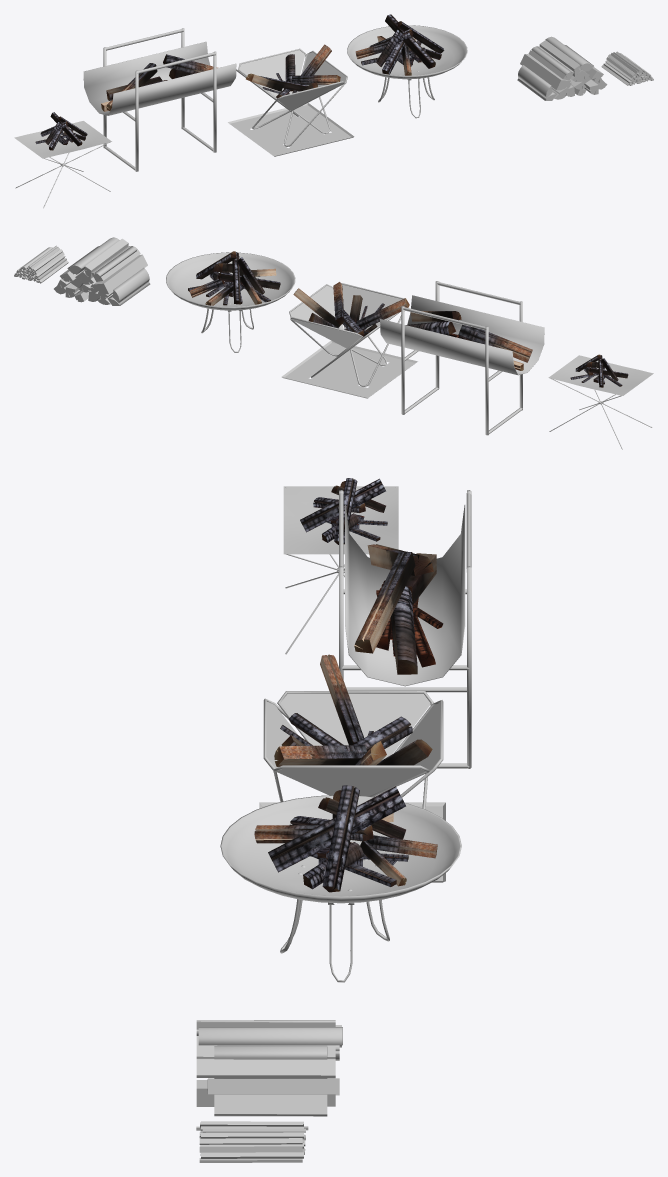
Rendered from Fire Stand.fbx.
The picture shows the model from 3 angles, top to bottom: view 1: azimuth 30°, elevation 25°; view 2: azimuth 150°, elevation 25°; view 3: azimuth 270°, elevation 25°; orthographic projection. The views are drawn at different scales.
Parts seen in each view (by area): view 1: Fire Stand_B, Fire Stand_C, maki, Fire Stand_D, Fire Stand_D_maki, Fire Stand_C_maki, Fire Stand_A, Fire Stand_B_maki, Fire Stand_A_maki; view 2: Fire Stand_B, Fire Stand_C, maki, Fire Stand_D, Fire Stand_D_maki, Fire Stand_C_maki, Fire Stand_A, Fire Stand_B_maki, Fire Stand_A_maki; view 3: maki, Fire Stand_B, Fire Stand_D, Fire Stand_C, Fire Stand_D_maki, Fire Stand_B_maki, Fire Stand_C_maki, Fire Stand_A, Fire Stand_A_maki.
Boxes of the visible parts, <box> form: Fire Stand_B: <box>83,28,236,171</box>; Fire Stand_C: <box>228,48,354,156</box>; maki: <box>517,36,653,100</box>; Fire Stand_D: <box>347,25,467,118</box>; Fire Stand_D_maki: <box>355,14,444,75</box>; Fire Stand_C_maki: <box>246,44,340,98</box>; Fire Stand_A: <box>14,121,111,208</box>; Fire Stand_B_maki: <box>101,54,217,111</box>; Fire Stand_A_maki: <box>35,112,87,150</box>; Fire Stand_B: <box>380,281,544,435</box>; Fire Stand_C: <box>281,283,417,398</box>; maki: <box>14,237,150,305</box>; Fire Stand_D: <box>166,252,295,352</box>; Fire Stand_D_maki: <box>188,251,280,305</box>; Fire Stand_C_maki: <box>293,282,409,336</box>; Fire Stand_A: <box>548,355,653,449</box>; Fire Stand_B_maki: <box>406,311,532,370</box>; Fire Stand_A_maki: <box>570,354,628,387</box>; maki: <box>196,1020,342,1162</box>; Fire Stand_B: <box>339,490,471,768</box>; Fire Stand_D: <box>220,795,461,982</box>; Fire Stand_C: <box>259,691,445,882</box>; Fire Stand_D_maki: <box>254,785,437,892</box>; Fire Stand_B_maki: <box>354,544,443,674</box>; Fire Stand_C_maki: <box>274,654,432,766</box>; Fire Stand_A: <box>283,486,398,654</box>; Fire Stand_A_maki: <box>300,478,387,544</box>.
Bounding box in the file's own units: 185 × 30.28 × 37.38.
